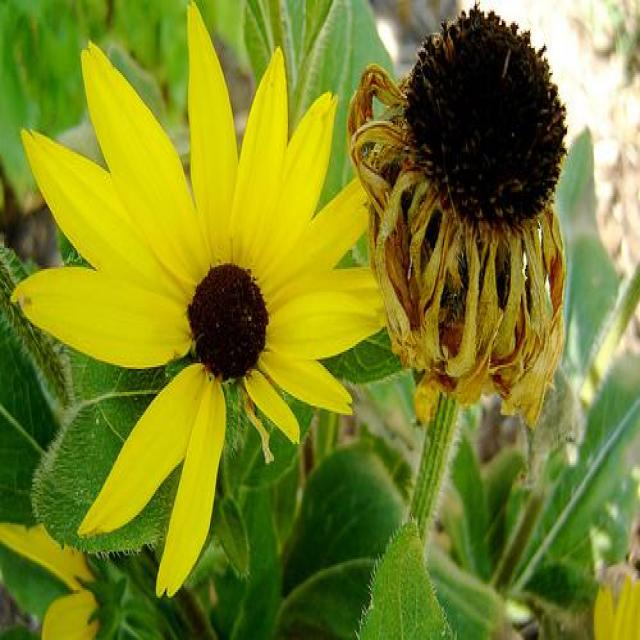sunflower: (11, 1, 381, 598), (352, 8, 571, 422), (4, 519, 106, 637)
